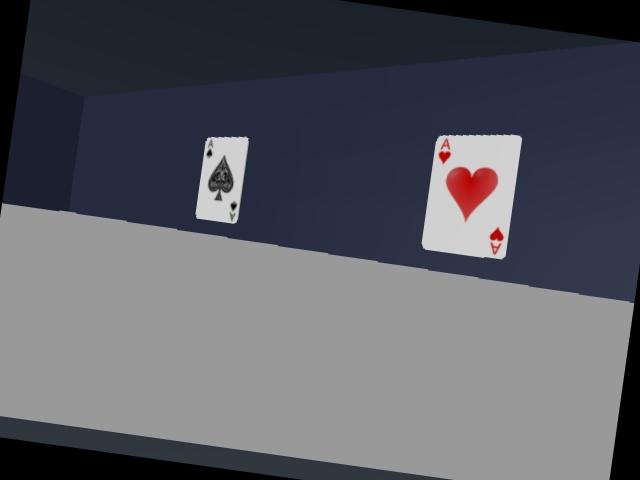heart: (422, 135, 521, 258)
spade: (195, 137, 248, 223)
